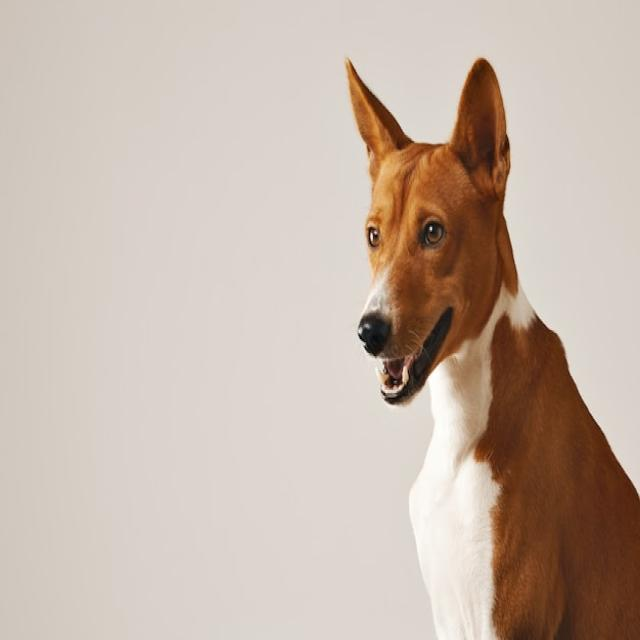Dog: (345, 58, 640, 639)
